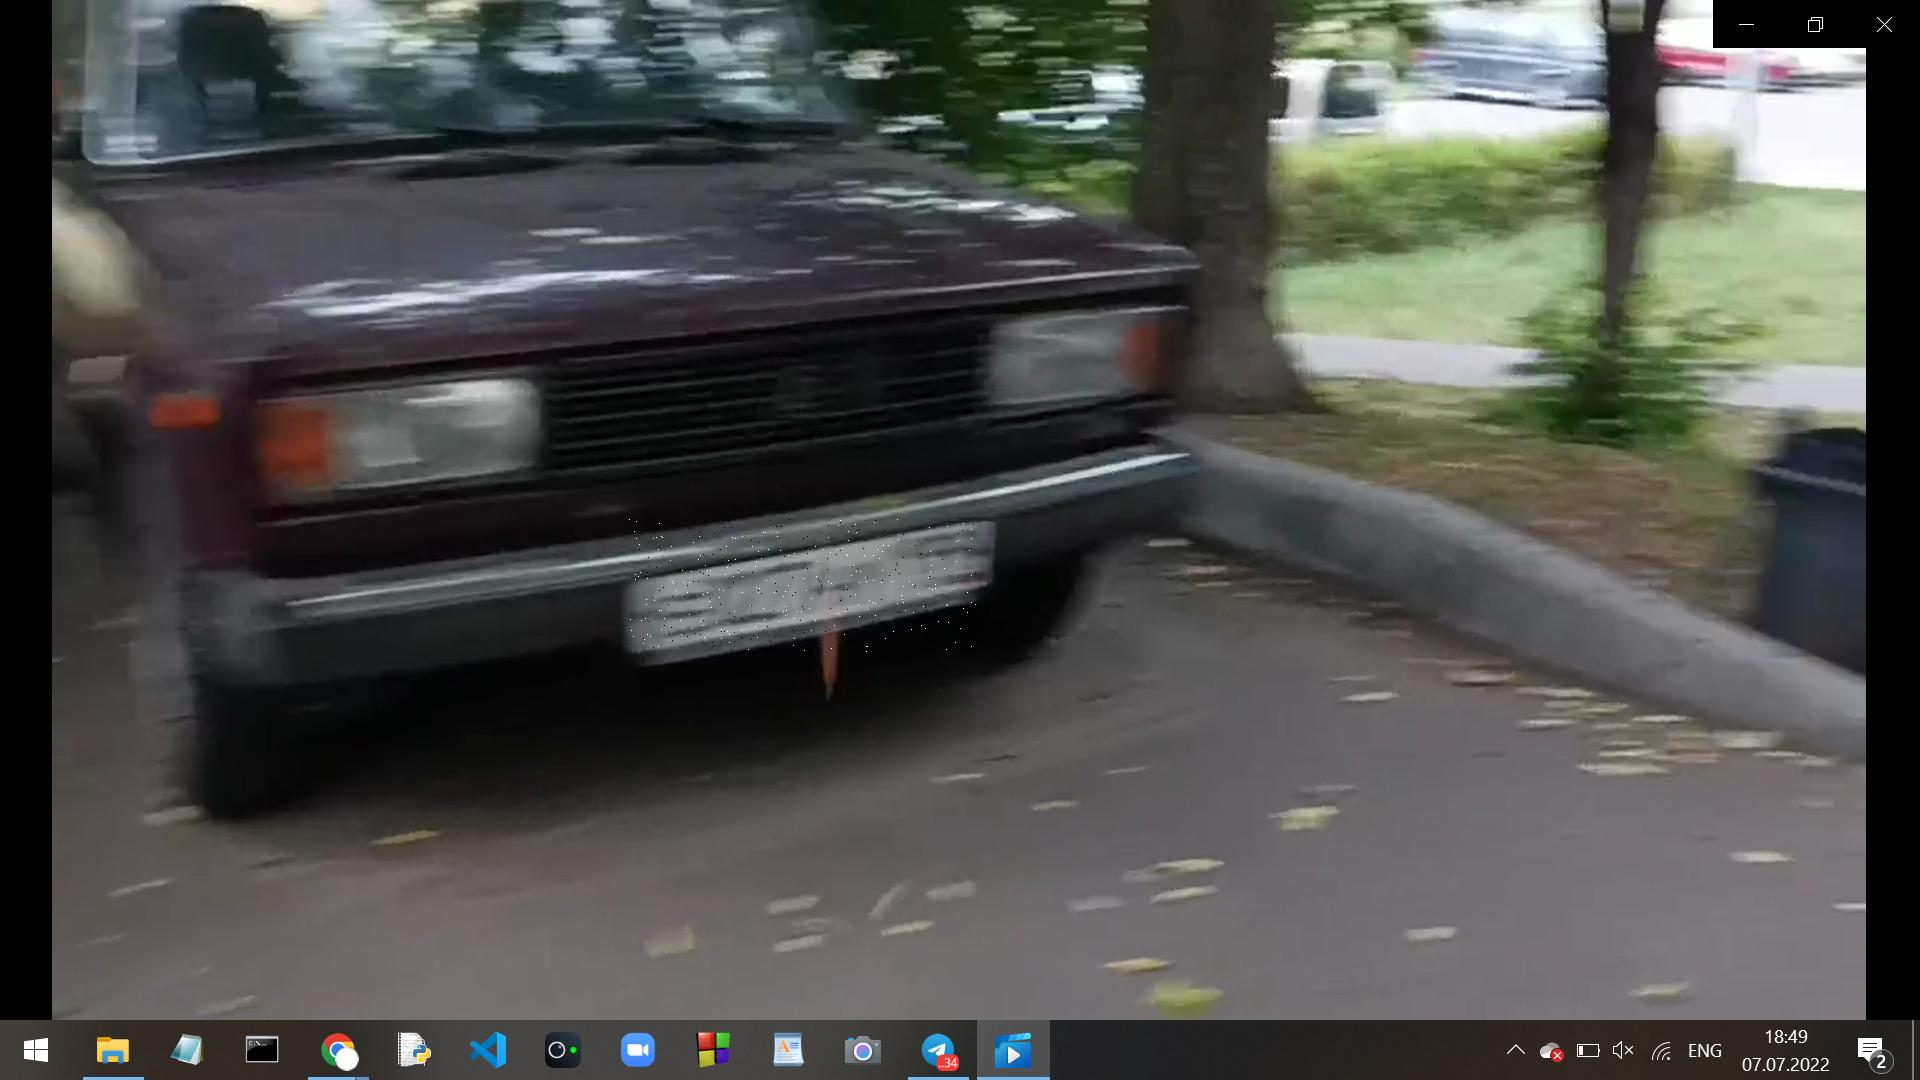plate: (629, 521, 977, 654)
